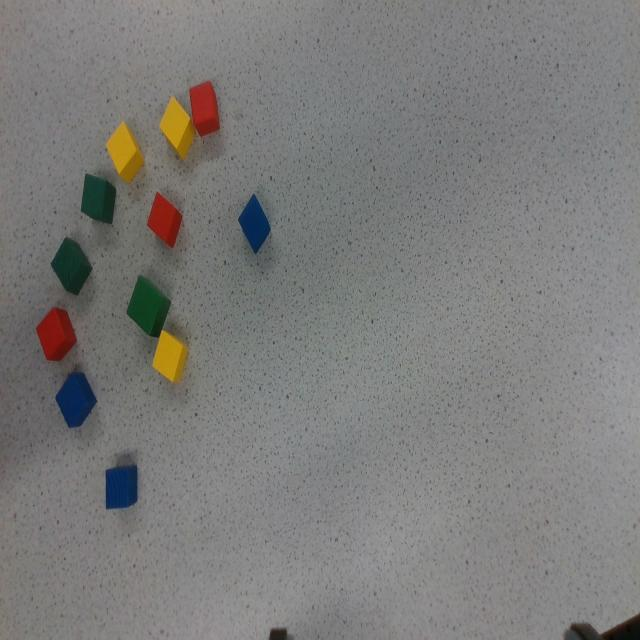blue_cube: (49, 368, 102, 430), (230, 195, 279, 253), (105, 465, 137, 508)
green_cube: (121, 275, 176, 339), (43, 236, 100, 296), (79, 174, 117, 223)
red_cube: (32, 304, 80, 364), (143, 192, 185, 248), (189, 80, 219, 137)
yellow_cube: (149, 97, 206, 158), (99, 120, 150, 184), (150, 329, 190, 383)
